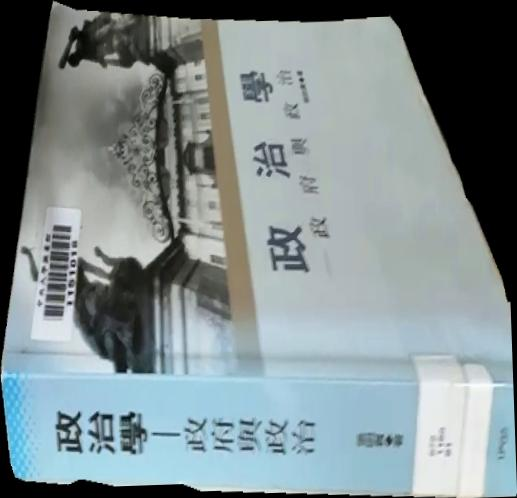flat: (1, 1, 517, 498)
